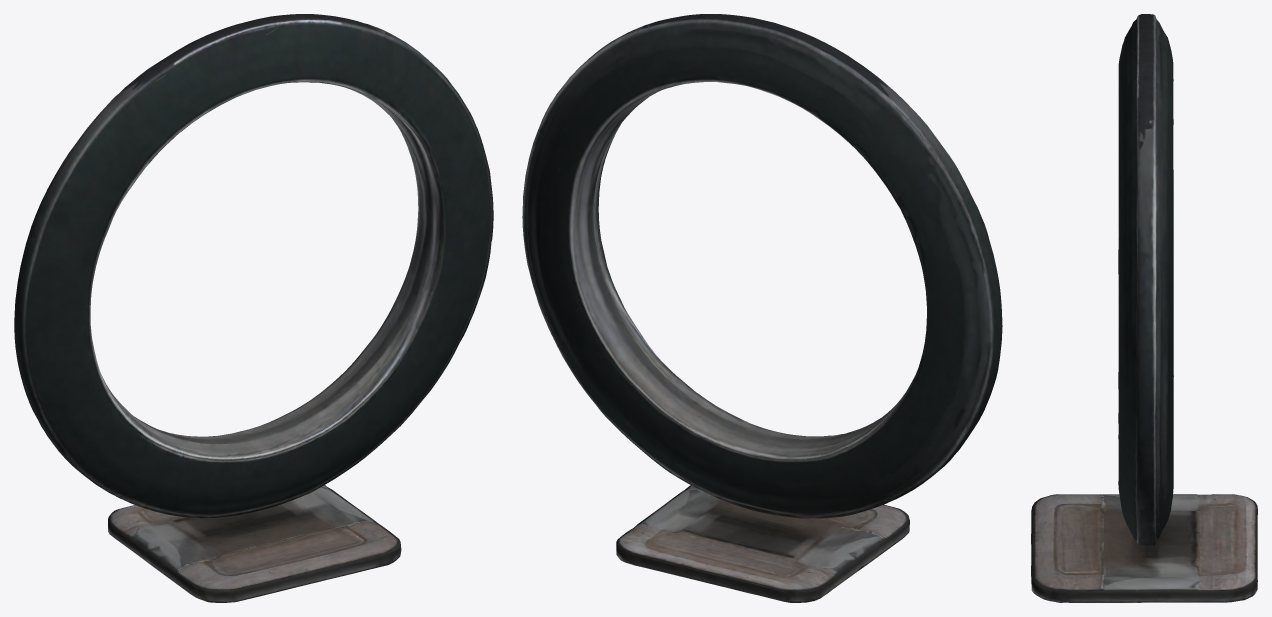
The model's file is Temporal_Gateway_0614151134_texture.fbx.
3 renders of one model, left to right at view 1: azimuth 30°, elevation 25°; view 2: azimuth 150°, elevation 25°; view 3: azimuth 270°, elevation 25°, orthographic.
Parts seen in each view (by area): view 1: Mesh1; view 2: Mesh1; view 3: Mesh1.
Boxes of the visible parts, <box> form: Mesh1: <box>14,14,493,602</box>; Mesh1: <box>522,14,1002,602</box>; Mesh1: <box>1031,14,1257,602</box>.
Bounding box in the file's own units: 191 × 200 × 80.
1 material, 1 textured.
